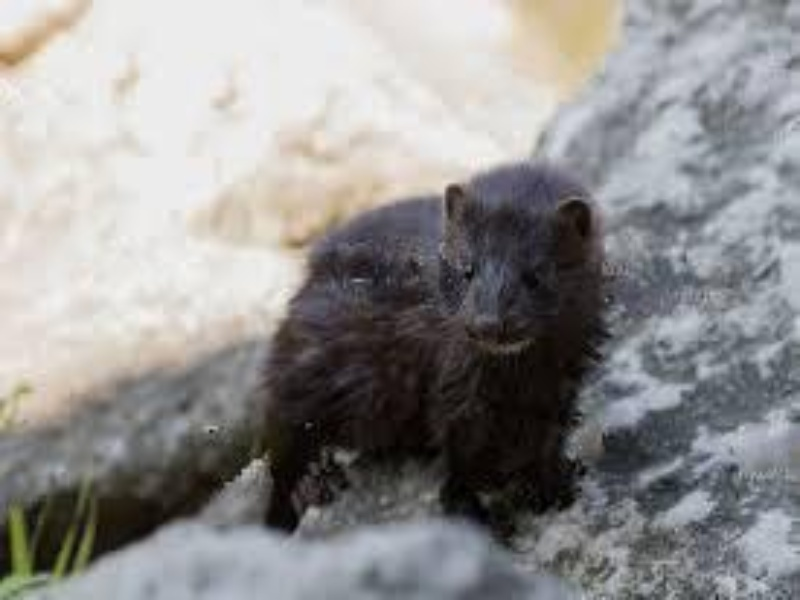minkish: (258, 160, 611, 543)
